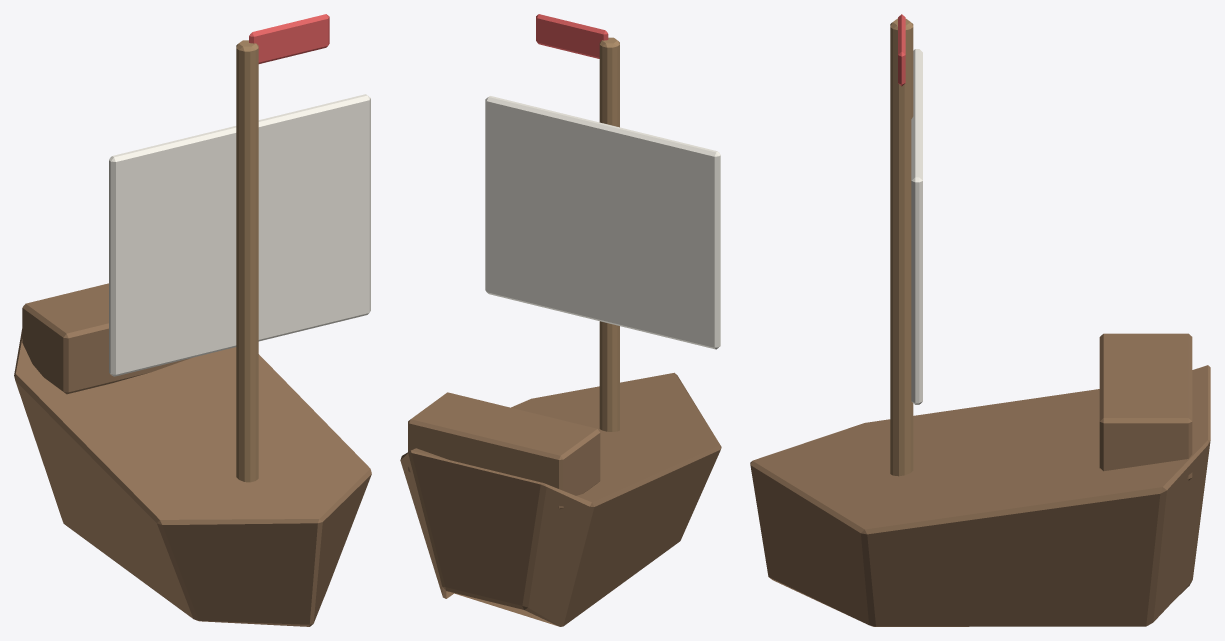
Rendered from ship_small.glb.
3 renders of one model, left to right at view 1: azimuth 30°, elevation 25°; view 2: azimuth 150°, elevation 25°; view 3: azimuth 270°, elevation 25°, orthographic. The views are drawn at different scales.
Visible parts, largest first — view 1: ship_small; view 2: ship_small; view 3: ship_small.
Boxes of the visible parts, <box> form: ship_small: <box>14,14,371,626</box>; ship_small: <box>400,14,721,626</box>; ship_small: <box>750,14,1210,626</box>.
Size of the model in its own units: 0.8064 by 1.67 by 1.19.
